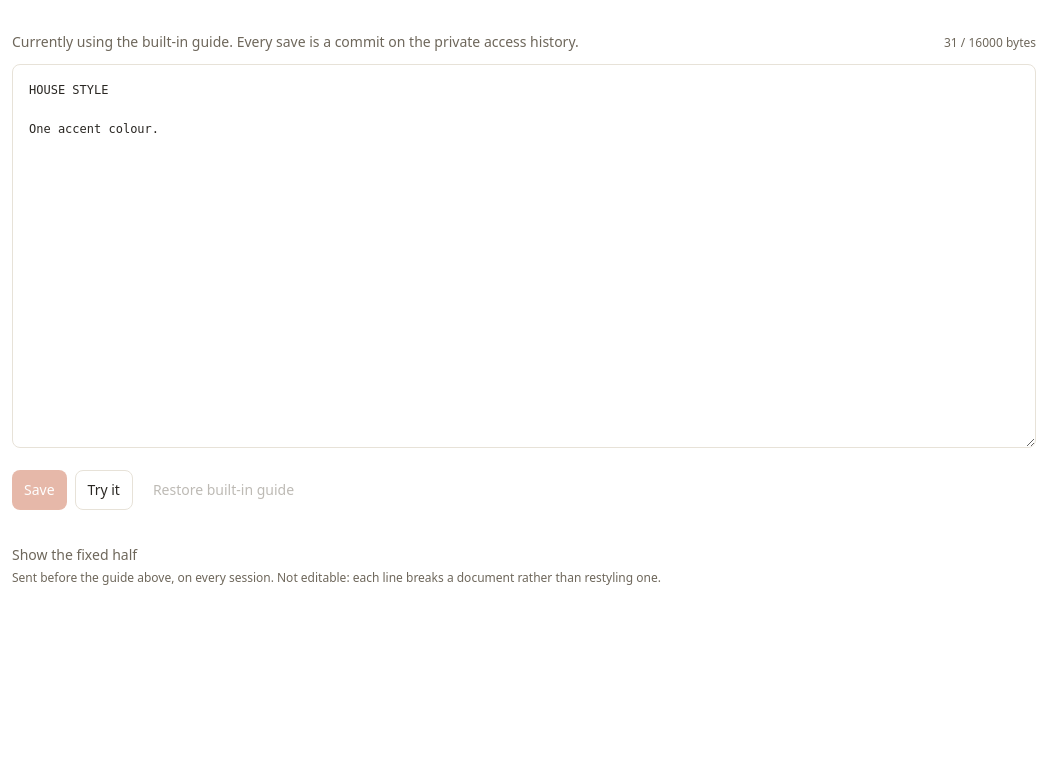
DesignGuideAdmin › cannot save until something changed
expect the button "Save" is disabled: met, box [12,470,67,510]
Type " Wide margins." into the text box named "Design guide" at (524, 256), box [12,64,1036,448]
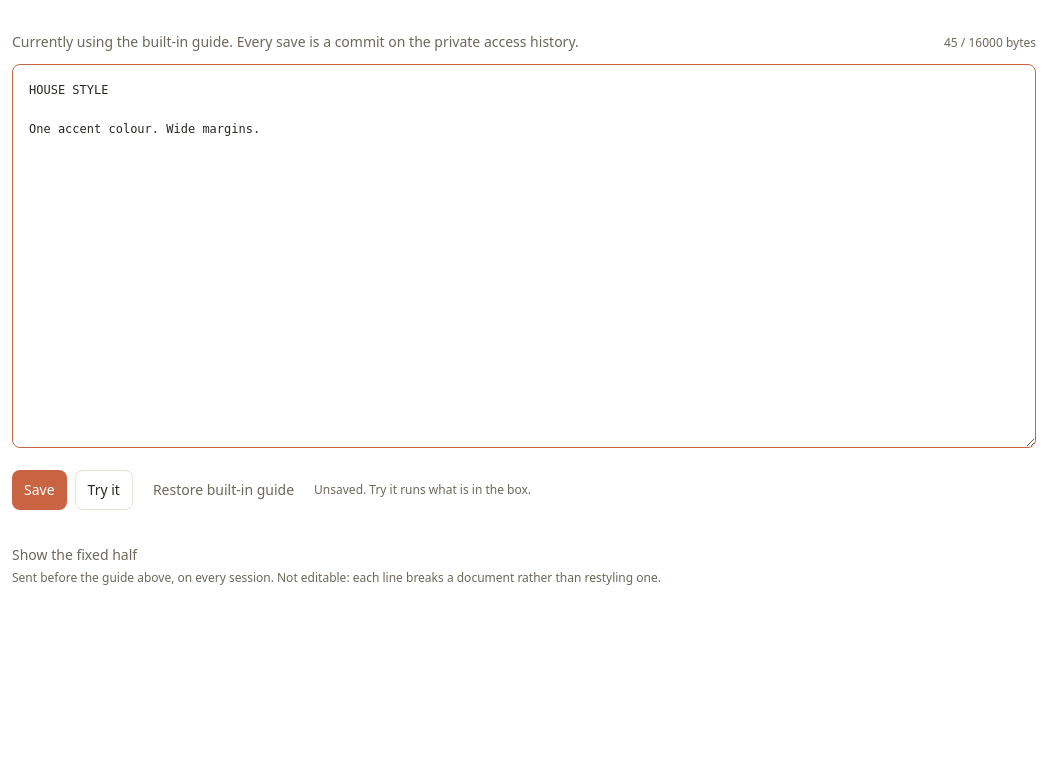
expect the button "Save" is enabled: met, box [12,470,67,510]
